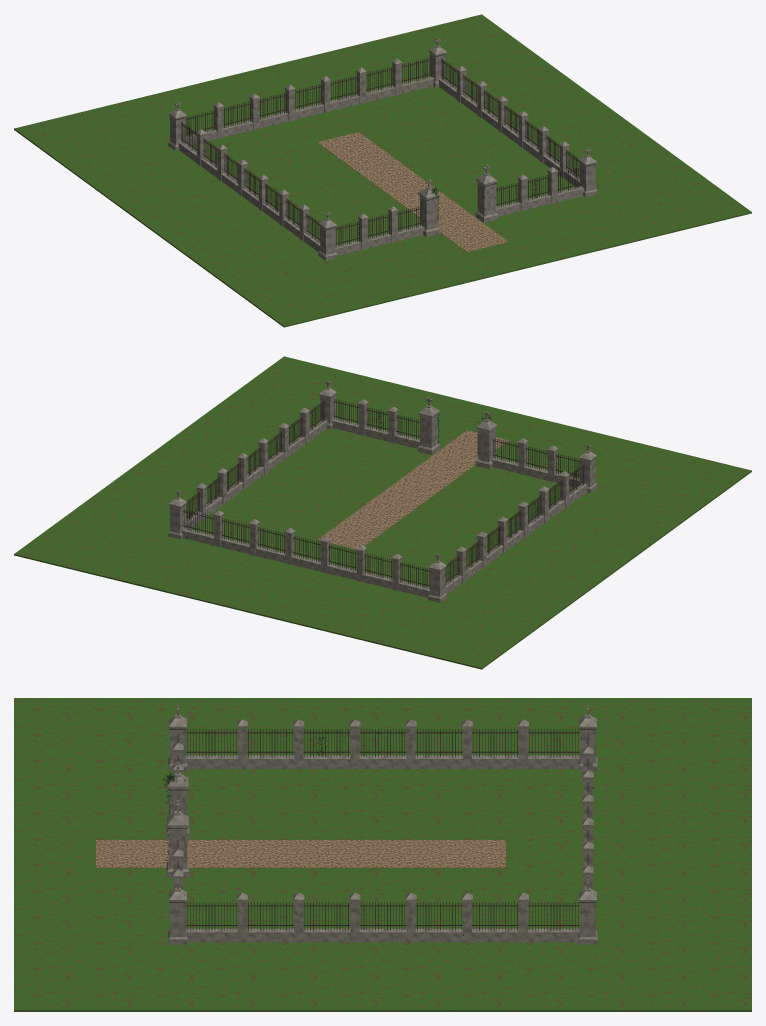
Rendered from escenario.obj.
3 renders of one model, top to bottom at view 1: azimuth 30°, elevation 25°; view 2: azimuth 150°, elevation 25°; view 3: azimuth 270°, elevation 25°, orthographic. The views are drawn at different scales.
Parts seen in each view (by area): view 1: Suelo, Camino, Cerca_Fondo_Piedra, Cerca_Izquierda_Piedra, Cerca_Derecha_Piedra, Cerca_Fondo_Hierro, Pilares_Esquina, Cerca_Izquierda_Hierro, Cerca_Derecha_Hierro, Pilares_Reja, Cerca_Frente_Der_Piedra, Cerca_Frente_Izq_Piedra (+2 smaller); view 2: Suelo, Camino, Cerca_Fondo_Piedra, Cerca_Derecha_Piedra, Cerca_Izquierda_Piedra, Cerca_Fondo_Hierro, Pilares_Esquina, Cerca_Izquierda_Hierro, Cerca_Derecha_Hierro, Pilares_Reja, Cerca_Frente_Der_Piedra, Cerca_Frente_Izq_Piedra (+2 smaller); view 3: Suelo, Camino, Cerca_Derecha_Piedra, Cerca_Izquierda_Piedra, Cerca_Izquierda_Hierro, Cerca_Derecha_Hierro, Pilares_Esquina, Pilares_Reja, Cerca_Fondo_Piedra.
Part boxes in pixels (<box>): Suelo: <box>14,14,751,327</box>; Camino: <box>317,132,508,252</box>; Cerca_Fondo_Piedra: <box>186,58,433,145</box>; Cerca_Izquierda_Piedra: <box>178,129,320,251</box>; Cerca_Derecha_Piedra: <box>438,66,579,187</box>; Cerca_Fondo_Hierro: <box>186,57,432,136</box>; Pilares_Esquina: <box>168,38,597,260</box>; Cerca_Izquierda_Hierro: <box>181,121,320,243</box>; Cerca_Derecha_Hierro: <box>440,58,579,178</box>; Pilares_Reja: <box>418,164,497,236</box>; Cerca_Frente_Der_Piedra: <box>496,167,584,216</box>; Cerca_Frente_Izq_Piedra: <box>336,206,424,255</box>; Suelo: <box>14,356,751,669</box>; Camino: <box>317,430,508,549</box>; Cerca_Fondo_Piedra: <box>181,510,429,597</box>; Cerca_Derecha_Piedra: <box>186,408,327,529</box>; Cerca_Izquierda_Piedra: <box>445,471,587,593</box>; Cerca_Fondo_Hierro: <box>183,509,429,589</box>; Pilares_Esquina: <box>168,380,597,602</box>; Cerca_Izquierda_Hierro: <box>445,463,584,585</box>; Cerca_Derecha_Hierro: <box>186,400,325,520</box>; Pilares_Reja: <box>418,397,497,468</box>; Cerca_Frente_Der_Piedra: <box>332,399,419,448</box>; Cerca_Frente_Izq_Piedra: <box>491,438,579,487</box>; Suelo: <box>14,698,751,1011</box>; Camino: <box>96,840,505,867</box>; Cerca_Derecha_Piedra: <box>186,893,579,942</box>; Cerca_Izquierda_Piedra: <box>186,719,579,769</box>; Cerca_Izquierda_Hierro: <box>186,729,579,757</box>; Cerca_Derecha_Hierro: <box>186,902,579,930</box>; Pilares_Esquina: <box>168,705,597,944</box>; Pilares_Reja: <box>166,761,189,877</box>; Cerca_Fondo_Piedra: <box>582,747,593,889</box>.
Bounding box in the file's own units: 36 × 4.05 × 36.
Materials: 5 (5 with a texture image).
